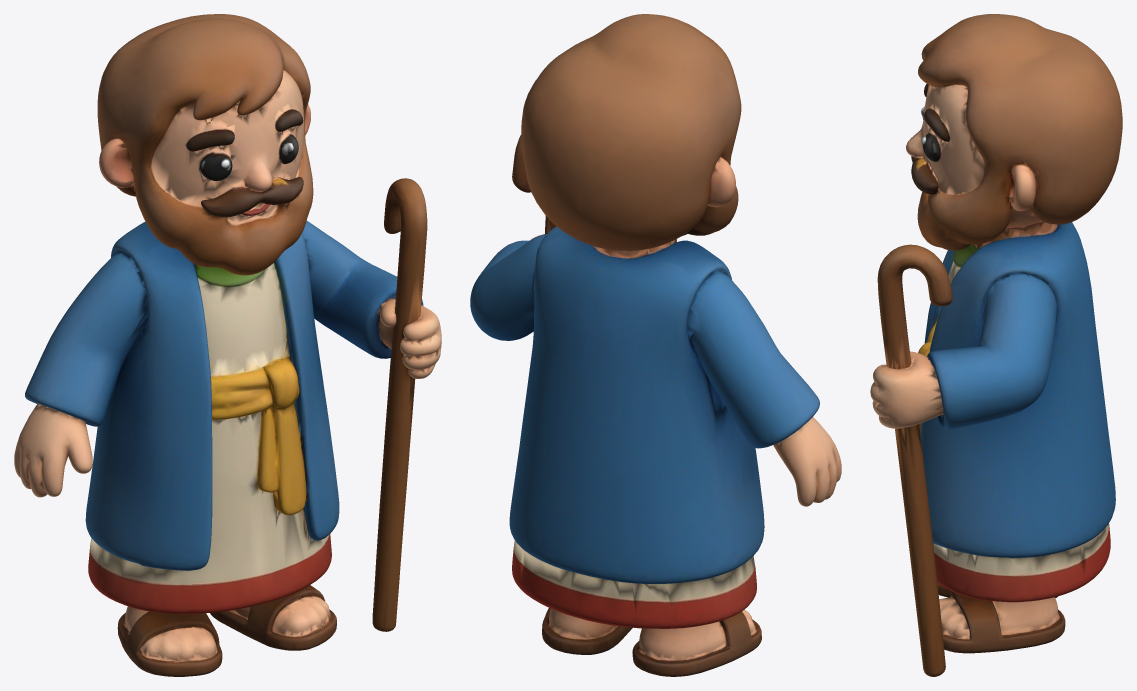
The model's file is noe.glb.
3 renders of one model, left to right at view 1: azimuth 30°, elevation 25°; view 2: azimuth 150°, elevation 25°; view 3: azimuth 270°, elevation 25°, orthographic. The views are drawn at different scales.
Visible parts, largest first — view 1: noe; view 2: noe; view 3: noe.
Part boxes in pixels (bbox=[...]): noe: bbox=[14, 14, 441, 676]; noe: bbox=[470, 14, 841, 676]; noe: bbox=[870, 14, 1122, 676].
Size of the model in its own units: 0.6153 by 0.9793 by 0.3821.
1 material, 1 textured.
